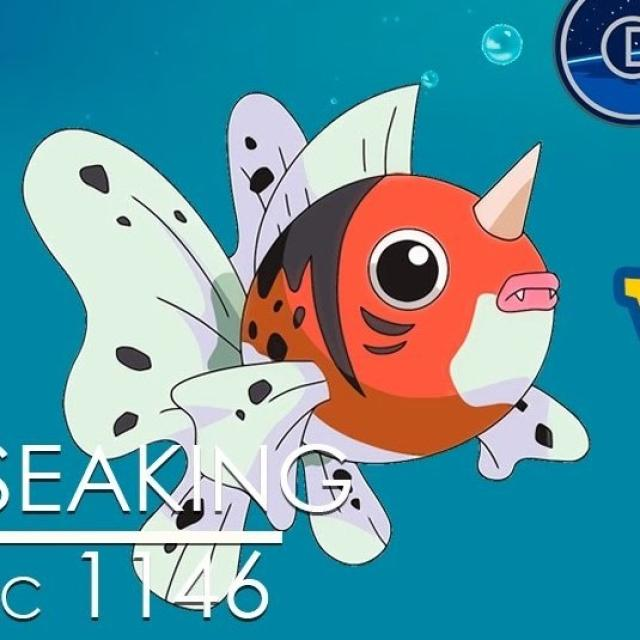Seaking: (66, 89, 573, 493)
